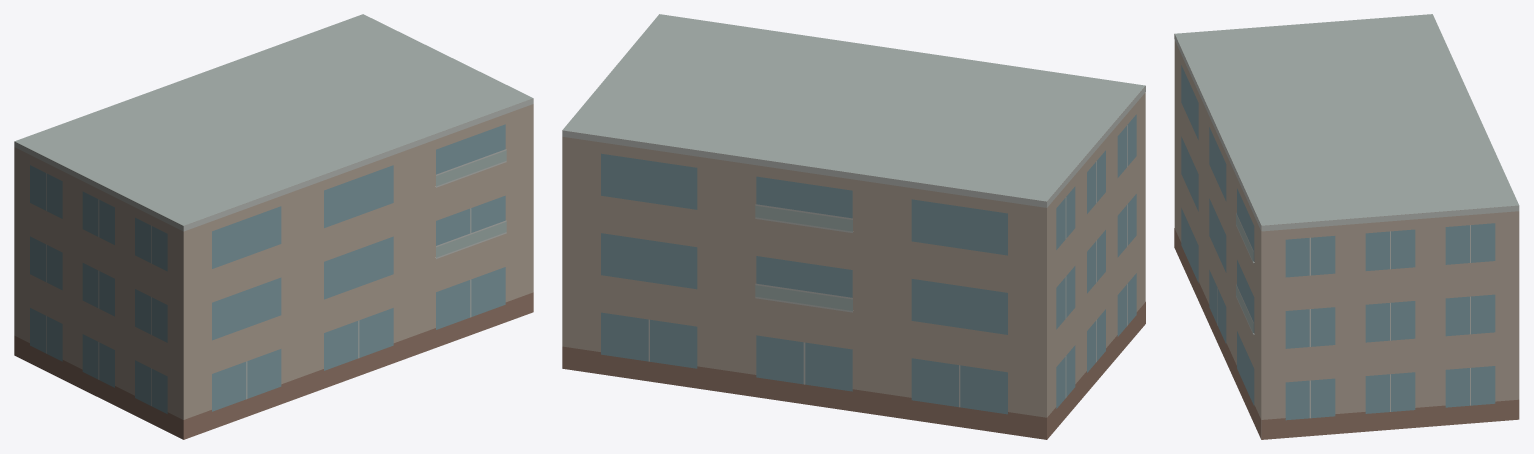
File: survey-upis-32709047.glb
3 renders of one model, left to right at view 1: azimuth 30°, elevation 25°; view 2: azimuth 150°, elevation 25°; view 3: azimuth 270°, elevation 25°, orthographic. The views are drawn at different scales.
Parts seen in each view (by area): view 1: survey-upis-32709047.tmp; view 2: survey-upis-32709047.tmp; view 3: survey-upis-32709047.tmp.
Part boxes in pixels (left/top/right/bottom): survey-upis-32709047.tmp: left=14, top=14, right=533, bottom=439; survey-upis-32709047.tmp: left=562, top=14, right=1145, bottom=439; survey-upis-32709047.tmp: left=1174, top=14, right=1519, bottom=439.
Bounding box in the file's own units: 19.42 × 9.15 × 13.36.
